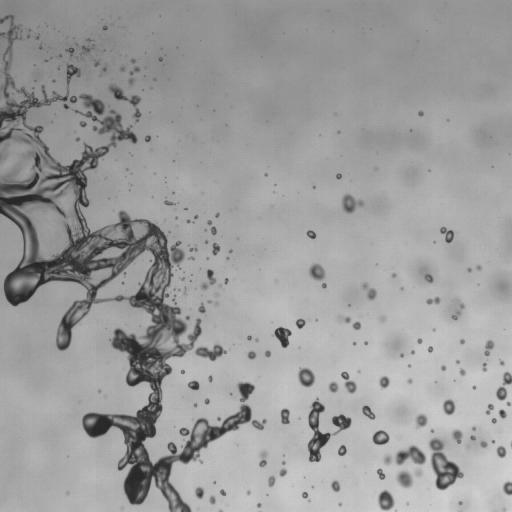droplet: (382, 444, 426, 489), (428, 437, 463, 490), (194, 341, 227, 361), (308, 262, 326, 289), (270, 326, 291, 348), (341, 193, 364, 213), (377, 489, 395, 511), (297, 366, 315, 387), (200, 269, 216, 290), (361, 282, 377, 301), (372, 430, 389, 445), (440, 226, 454, 243), (442, 398, 455, 415), (415, 413, 427, 429), (362, 405, 375, 419), (294, 318, 310, 329), (279, 408, 290, 424), (451, 429, 463, 443), (379, 376, 390, 389), (502, 480, 511, 495), (496, 445, 506, 458), (194, 486, 204, 499), (61, 53, 72, 64), (82, 53, 93, 64), (107, 64, 118, 75), (101, 74, 112, 85), (69, 85, 80, 96), (102, 92, 113, 103), (113, 99, 124, 110), (119, 118, 130, 129), (83, 185, 94, 196), (195, 217, 206, 228), (87, 220, 98, 231), (43, 280, 54, 291), (76, 288, 87, 299), (135, 306, 146, 317), (141, 313, 152, 324), (177, 332, 188, 343), (184, 349, 195, 360), (118, 350, 129, 361), (486, 354, 497, 365), (447, 364, 458, 375), (139, 380, 150, 391), (245, 395, 256, 406), (229, 402, 240, 413), (97, 404, 108, 415), (318, 411, 329, 422), (349, 411, 360, 422), (369, 420, 380, 431), (239, 421, 250, 432), (107, 425, 118, 436), (441, 434, 452, 445), (214, 435, 225, 446), (142, 436, 153, 447), (175, 437, 186, 448), (325, 438, 336, 449), (383, 442, 394, 453), (116, 443, 127, 454), (387, 444, 398, 455), (403, 457, 414, 468), (171, 459, 182, 470), (389, 462, 400, 473), (376, 480, 387, 491), (148, 484, 159, 495), (388, 485, 399, 496), (181, 492, 192, 503), (187, 380, 199, 390), (328, 381, 338, 393), (485, 403, 494, 415), (331, 480, 340, 492), (212, 242, 220, 255), (338, 444, 347, 455), (376, 468, 385, 479), (267, 475, 275, 487), (306, 230, 316, 239), (424, 273, 433, 283), (246, 350, 256, 359), (198, 302, 206, 313), (91, 58, 100, 67), (0, 22, 9, 31), (7, 67, 16, 76), (122, 88, 131, 97), (135, 131, 144, 140), (20, 142, 29, 151), (84, 168, 93, 177), (334, 199, 343, 208), (174, 206, 183, 215), (208, 234, 217, 243), (212, 234, 221, 243), (179, 258, 188, 267), (120, 299, 129, 308), (190, 309, 199, 318), (287, 322, 296, 331), (185, 324, 194, 333), (123, 327, 132, 336), (193, 338, 202, 347), (246, 341, 255, 350), (255, 350, 264, 359), (403, 353, 412, 362), (165, 356, 174, 365), (170, 367, 179, 376), (404, 368, 413, 377), (161, 375, 170, 384), (336, 377, 345, 386), (494, 377, 503, 386), (496, 399, 505, 408), (490, 408, 499, 417), (318, 424, 327, 433), (305, 429, 314, 438), (460, 433, 469, 442), (400, 442, 409, 451), (487, 444, 496, 453), (423, 448, 432, 457), (149, 454, 158, 463), (410, 475, 419, 484), (115, 481, 124, 490), (119, 493, 128, 502), (498, 409, 506, 418), (279, 468, 287, 477), (0, 37, 6, 48), (505, 383, 511, 394), (505, 405, 511, 416), (505, 447, 511, 458), (129, 505, 140, 511), (206, 505, 217, 511), (378, 315, 386, 323), (210, 226, 217, 235), (498, 358, 505, 367), (481, 361, 487, 371), (144, 134, 151, 142), (459, 368, 466, 376), (480, 440, 487, 448), (0, 97, 5, 108), (0, 165, 5, 176), (0, 288, 5, 299), (209, 495, 215, 504), (264, 350, 271, 357), (103, 17, 110, 24), (73, 47, 80, 54), (126, 63, 133, 70), (60, 65, 67, 72), (122, 71, 129, 78), (14, 81, 21, 88), (91, 92, 98, 99), (36, 93, 43, 100), (102, 109, 109, 116), (96, 113, 103, 120), (123, 137, 130, 144), (85, 179, 92, 186), (352, 193, 359, 200), (176, 203, 183, 210), (353, 205, 360, 212), (341, 210, 348, 217), (113, 215, 120, 222), (158, 224, 165, 231), (165, 241, 172, 248), (183, 250, 190, 257), (313, 257, 320, 264), (320, 261, 327, 268), (170, 262, 177, 269), (8, 264, 15, 271), (303, 269, 310, 276), (201, 275, 208, 282), (314, 279, 321, 286), (37, 284, 44, 291), (207, 284, 214, 291), (360, 289, 367, 296), (374, 293, 381, 300), (29, 294, 36, 301), (162, 297, 169, 304), (3, 300, 10, 307), (17, 301, 24, 308), (195, 311, 202, 318), (70, 326, 77, 333), (107, 331, 114, 338), (69, 337, 76, 344), (273, 338, 280, 345), (356, 339, 363, 346), (105, 341, 112, 348), (413, 343, 420, 350), (206, 344, 213, 351), (479, 354, 486, 361), (215, 355, 222, 362), (301, 361, 308, 368), (458, 361, 465, 368), (123, 362, 130, 369), (304, 362, 311, 369), (453, 364, 460, 371), (309, 365, 316, 372), (292, 375, 299, 382), (240, 376, 247, 383), (373, 376, 380, 383), (247, 377, 254, 384), (312, 378, 319, 385), (373, 381, 380, 388), (310, 382, 317, 389), (299, 384, 306, 391), (322, 384, 329, 391), (234, 391, 241, 398), (448, 393, 455, 400), (159, 398, 166, 405), (197, 399, 204, 406), (417, 407, 424, 414), (437, 407, 444, 414), (414, 408, 421, 415), (249, 412, 256, 419), (409, 417, 416, 424), (215, 420, 222, 427), (153, 421, 160, 428), (423, 423, 430, 430), (80, 430, 87, 437), (224, 430, 231, 437), (428, 432, 435, 439), (96, 434, 103, 441), (473, 438, 480, 445), (207, 440, 214, 447), (318, 446, 325, 453), (175, 447, 182, 454), (198, 447, 205, 454), (440, 447, 447, 454), (446, 454, 453, 461), (424, 455, 431, 462), (124, 463, 131, 470), (457, 464, 464, 471), (430, 472, 437, 479), (274, 474, 281, 481), (167, 475, 174, 482), (375, 487, 382, 494), (438, 488, 445, 495), (202, 492, 209, 499), (214, 492, 221, 499), (372, 493, 379, 500), (180, 494, 187, 501), (102, 23, 108, 30), (119, 64, 125, 71), (79, 121, 86, 127), (476, 264, 482, 271), (459, 338, 465, 345), (427, 346, 433, 353), (203, 398, 210, 404), (219, 489, 226, 495), (208, 374, 213, 382), (440, 365, 446, 371), (213, 292, 220, 297), (34, 33, 39, 39), (130, 58, 136, 63), (418, 110, 423, 116), (336, 173, 341, 179), (206, 220, 212, 225), (179, 276, 185, 281), (246, 335, 252, 340), (417, 338, 422, 344), (491, 418, 497, 423), (55, 53, 62, 57), (162, 507, 169, 511), (387, 507, 394, 511), (467, 267, 472, 272), (391, 273, 396, 278), (218, 283, 223, 288), (410, 349, 415, 354), (455, 359, 460, 364), (180, 369, 185, 374), (407, 378, 412, 383), (472, 384, 477, 389), (506, 401, 511, 406), (470, 435, 475, 440), (281, 460, 286, 465), (246, 490, 251, 495), (12, 19, 17, 24), (29, 31, 34, 36), (21, 32, 26, 37), (29, 35, 34, 40), (12, 39, 17, 44), (35, 39, 40, 44), (83, 41, 88, 46), (89, 49, 94, 54), (94, 55, 99, 60), (89, 60, 94, 65), (133, 61, 138, 66), (72, 62, 77, 67), (115, 63, 120, 68), (96, 64, 101, 69), (138, 64, 143, 69), (106, 66, 111, 71), (139, 67, 144, 72), (102, 71, 107, 76), (132, 71, 137, 76), (62, 72, 67, 77), (71, 73, 76, 78), (132, 80, 137, 85), (26, 88, 31, 93), (84, 89, 89, 94), (60, 91, 65, 96), (46, 93, 51, 98), (126, 94, 131, 99), (118, 98, 123, 103), (135, 103, 140, 108), (418, 115, 423, 120), (121, 125, 126, 130), (129, 127, 134, 132), (108, 145, 113, 150), (103, 153, 108, 158), (97, 156, 102, 161), (272, 185, 277, 190), (166, 196, 171, 201), (362, 198, 367, 203), (87, 203, 92, 208), (78, 204, 83, 209), (142, 214, 147, 219), (129, 215, 134, 220), (188, 215, 193, 220), (149, 218, 154, 223), (206, 224, 211, 229), (14, 225, 19, 230), (445, 225, 450, 230), (440, 233, 445, 238), (452, 234, 457, 239), (451, 237, 456, 242), (217, 241, 222, 246), (208, 245, 213, 250), (216, 250, 221, 255), (227, 252, 232, 257), (16, 255, 21, 260), (479, 261, 484, 266), (209, 265, 214, 270), (471, 266, 476, 271), (170, 267, 175, 272), (480, 267, 485, 272), (184, 271, 189, 276), (202, 271, 207, 276), (431, 273, 436, 278), (169, 276, 174, 281), (184, 276, 189, 281), (361, 277, 366, 282), (219, 278, 224, 283), (68, 280, 73, 285), (423, 280, 428, 285), (368, 283, 373, 288), (196, 286, 201, 291), (320, 287, 325, 292), (175, 290, 180, 295), (429, 294, 434, 299), (438, 294, 443, 299), (211, 296, 216, 301), (460, 298, 465, 303), (112, 299, 117, 304), (438, 300, 443, 305), (67, 301, 72, 306), (100, 301, 105, 306), (430, 301, 435, 306), (463, 301, 468, 306), (90, 302, 95, 307), (203, 303, 208, 308), (454, 304, 459, 309), (193, 305, 198, 310), (460, 308, 465, 313), (343, 312, 348, 317), (83, 314, 88, 319), (293, 315, 298, 320), (457, 315, 462, 320), (56, 317, 61, 322), (350, 318, 355, 323), (359, 320, 364, 325), (198, 322, 203, 327), (274, 323, 279, 328), (281, 323, 286, 328), (112, 324, 117, 329), (301, 325, 306, 330), (352, 328, 357, 333), (457, 334, 462, 339), (286, 335, 291, 340), (485, 335, 490, 340), (491, 337, 496, 342), (481, 340, 486, 345), (286, 343, 291, 348), (52, 344, 57, 349), (221, 344, 226, 349), (480, 346, 485, 351), (245, 347, 250, 352), (488, 348, 493, 353), (269, 352, 274, 357), (204, 356, 209, 361), (244, 356, 249, 361), (264, 356, 269, 361), (249, 358, 254, 363), (441, 360, 446, 365), (436, 363, 441, 368), (477, 363, 482, 368), (445, 365, 450, 370), (436, 367, 441, 372), (294, 368, 299, 373), (454, 368, 459, 373), (464, 368, 469, 373), (381, 371, 386, 376), (461, 374, 466, 379), (121, 375, 126, 380), (403, 375, 408, 380), (189, 376, 194, 381), (194, 376, 199, 381), (327, 378, 332, 383), (411, 378, 416, 383), (388, 379, 393, 384), (354, 380, 359, 385), (387, 382, 392, 387), (198, 383, 203, 388), (355, 384, 360, 389), (128, 385, 133, 390), (492, 386, 497, 391), (190, 388, 195, 393), (353, 389, 358, 394), (329, 391, 334, 396), (247, 393, 252, 398), (443, 395, 448, 400), (310, 397, 315, 402), (318, 398, 323, 403), (439, 399, 444, 404), (143, 400, 148, 405), (453, 401, 458, 406), (282, 403, 287, 408), (137, 404, 142, 409), (483, 405, 488, 410), (306, 406, 311, 411), (276, 407, 281, 412), (357, 407, 362, 412), (453, 407, 458, 412), (117, 409, 122, 414), (131, 411, 136, 416), (318, 411, 323, 416), (334, 411, 339, 416), (343, 412, 348, 417), (197, 413, 202, 418), (448, 413, 453, 418), (193, 415, 198, 420), (220, 415, 225, 420), (276, 415, 281, 420), (287, 415, 292, 420), (363, 415, 368, 420), (257, 417, 262, 422), (303, 418, 308, 423), (349, 421, 354, 426), (262, 422, 267, 427), (283, 423, 288, 428), (176, 424, 181, 429), (334, 425, 339, 430), (187, 426, 192, 431), (251, 426, 256, 431), (345, 426, 350, 431), (374, 426, 379, 431), (370, 429, 375, 434), (386, 430, 391, 435), (470, 430, 475, 435), (451, 438, 456, 443), (369, 440, 374, 445), (486, 440, 491, 445), (493, 442, 498, 447), (379, 443, 384, 448), (264, 446, 269, 451), (479, 446, 484, 451), (166, 450, 171, 455), (492, 450, 497, 455), (305, 451, 310, 456), (340, 454, 345, 459), (256, 456, 261, 461), (264, 456, 269, 461), (278, 456, 283, 461), (282, 456, 287, 461), (500, 456, 505, 461), (311, 460, 316, 465), (112, 463, 117, 468), (264, 463, 269, 468), (279, 464, 284, 469), (283, 473, 288, 478), (263, 479, 268, 484), (327, 479, 332, 484), (338, 482, 343, 487), (173, 484, 178, 489), (447, 484, 452, 489), (328, 487, 333, 492), (297, 490, 302, 495), (335, 490, 340, 495), (143, 497, 148, 502), (163, 500, 168, 505), (458, 504, 463, 509), (506, 506, 511, 511), (224, 278, 228, 284), (0, 141, 3, 148), (75, 137, 80, 141), (215, 212, 219, 217), (194, 214, 198, 219), (228, 249, 233, 253), (254, 337, 258, 342), (193, 402, 197, 407), (472, 426, 476, 431), (430, 428, 434, 433), (458, 501, 463, 505), (257, 502, 261, 507), (501, 507, 506, 511), (158, 57, 162, 61), (264, 172, 268, 176), (352, 341, 356, 345), (363, 341, 367, 345), (400, 353, 404, 357), (397, 435, 401, 439), (491, 440, 495, 444), (338, 502, 342, 506), (205, 239, 208, 244), (0, 13, 3, 18), (508, 369, 511, 374), (508, 493, 511, 498), (374, 167, 378, 170), (312, 185, 315, 189), (184, 207, 188, 210), (174, 216, 178, 219), (226, 256, 229, 260), (189, 273, 193, 276), (400, 286, 403, 290), (407, 364, 411, 367), (357, 369, 360, 373), (98, 389, 101, 393), (297, 416, 301, 419), (311, 485, 314, 489), (66, 491, 69, 495), (406, 501, 409, 505), (218, 509, 223, 511), (0, 55, 2, 60), (0, 212, 2, 217), (52, 79, 55, 82), (153, 78, 156, 81), (446, 118, 449, 121), (409, 129, 412, 132), (337, 130, 340, 133), (153, 172, 156, 175), (129, 183, 132, 186), (206, 257, 209, 260), (121, 281, 124, 284), (315, 318, 318, 321), (432, 328, 435, 331), (229, 392, 232, 395), (282, 454, 285, 457), (5, 12, 8, 15), (19, 25, 22, 28), (107, 25, 110, 28), (99, 26, 102, 29), (103, 29, 106, 32), (84, 35, 87, 38), (38, 36, 41, 39), (89, 36, 92, 39), (90, 40, 93, 43), (41, 44, 44, 47), (71, 44, 74, 47), (65, 45, 68, 48), (2, 48, 5, 51), (37, 48, 40, 51), (66, 51, 69, 54), (55, 52, 58, 55), (160, 54, 163, 57), (132, 55, 135, 58), (45, 56, 48, 59), (52, 56, 55, 59), (155, 58, 158, 61), (48, 59, 51, 62), (161, 59, 164, 62), (32, 60, 35, 63), (44, 61, 47, 64), (68, 61, 71, 64), (33, 76, 36, 79), (51, 76, 54, 79), (63, 79, 66, 82), (75, 94, 78, 97), (138, 109, 141, 112), (415, 111, 418, 114), (422, 111, 425, 114), (138, 116, 141, 119), (411, 127, 414, 130), (334, 128, 337, 131), (406, 129, 409, 132), (147, 140, 150, 143), (127, 153, 130, 156), (171, 156, 174, 159), (124, 164, 127, 167), (127, 165, 130, 168), (490, 167, 493, 170), (122, 168, 125, 171), (127, 169, 130, 172), (338, 170, 341, 173), (261, 171, 264, 174), (266, 171, 269, 174), (426, 171, 429, 174), (333, 172, 336, 175), (341, 173, 344, 176), (262, 175, 265, 178), (333, 176, 336, 179), (164, 177, 167, 180), (339, 177, 342, 180), (161, 180, 164, 183), (273, 180, 276, 183), (312, 182, 315, 185), (315, 185, 318, 188), (129, 186, 132, 189), (309, 186, 312, 189), (172, 188, 175, 191), (168, 190, 171, 193), (174, 191, 177, 194), (162, 197, 165, 200), (175, 203, 178, 206), (167, 204, 170, 207), (171, 204, 174, 207), (183, 204, 186, 207), (183, 209, 186, 212), (213, 210, 216, 213), (171, 215, 174, 218), (217, 215, 220, 218), (136, 216, 139, 219), (177, 216, 180, 219), (193, 218, 196, 221), (85, 219, 88, 222), (183, 219, 186, 222), (204, 219, 207, 222), (189, 221, 192, 224), (103, 223, 106, 226), (210, 223, 213, 226), (439, 224, 442, 227), (215, 227, 218, 230), (309, 227, 312, 230), (452, 229, 455, 232), (437, 230, 440, 233), (314, 231, 317, 234), (315, 234, 318, 237), (308, 237, 311, 240), (179, 238, 182, 241), (201, 239, 204, 242), (429, 240, 432, 243), (20, 241, 23, 244), (444, 241, 447, 244), (189, 244, 192, 247), (20, 246, 23, 249), (196, 246, 199, 249), (227, 246, 230, 249), (191, 249, 194, 252), (189, 258, 192, 261), (464, 269, 467, 272), (190, 270, 193, 273), (394, 270, 397, 273), (468, 271, 471, 274), (388, 272, 391, 275), (189, 275, 192, 278), (227, 276, 230, 279), (394, 276, 397, 279), (226, 281, 229, 284), (325, 283, 328, 286), (399, 283, 402, 286), (180, 287, 183, 290), (402, 288, 405, 291), (398, 289, 401, 292), (185, 290, 188, 293), (347, 300, 350, 303), (424, 302, 427, 305), (197, 303, 200, 306), (344, 303, 347, 306), (452, 311, 455, 314), (448, 314, 451, 317), (301, 316, 304, 319), (317, 317, 320, 320), (454, 319, 457, 322), (316, 320, 319, 323), (429, 326, 432, 329), (435, 328, 438, 331), (430, 330, 433, 333), (248, 332, 251, 335), (418, 335, 421, 338), (250, 337, 253, 340), (463, 337, 466, 340), (258, 338, 261, 341), (352, 338, 355, 341), (414, 338, 417, 341), (246, 339, 249, 342), (456, 339, 459, 342), (349, 341, 352, 344), (367, 341, 370, 344), (355, 342, 358, 345), (463, 342, 466, 345), (363, 344, 366, 347), (425, 345, 428, 348), (432, 346, 435, 349), (408, 348, 411, 351), (226, 350, 229, 353), (425, 350, 428, 353), (431, 350, 434, 353), (481, 352, 484, 355), (396, 353, 399, 356), (409, 353, 412, 356), (412, 353, 415, 356), (484, 355, 487, 358), (399, 356, 402, 359), (456, 356, 459, 359), (500, 357, 503, 360), (452, 360, 455, 363), (496, 360, 499, 363), (405, 361, 408, 364), (410, 363, 413, 366), (485, 364, 488, 367), (180, 366, 183, 369), (407, 367, 410, 370), (341, 368, 344, 371), (184, 369, 187, 372), (443, 369, 446, 372), (177, 370, 180, 373), (346, 370, 349, 373), (338, 371, 341, 374), (483, 371, 486, 374), (180, 373, 183, 376), (205, 374, 208, 377), (211, 375, 214, 378), (450, 377, 453, 380), (211, 379, 214, 382), (451, 381, 454, 384), (475, 384, 478, 387), (469, 386, 472, 389), (94, 388, 97, 391), (100, 390, 103, 393), (227, 394, 230, 397), (208, 401, 211, 404), (190, 403, 193, 406), (370, 408, 373, 411), (370, 418, 373, 421), (489, 421, 492, 424), (493, 422, 496, 425), (475, 427, 478, 430), (433, 428, 436, 431), (176, 430, 179, 433), (491, 436, 494, 439), (167, 439, 170, 442), (470, 439, 473, 442), (457, 443, 460, 446), (336, 445, 339, 448), (334, 450, 337, 453), (279, 452, 282, 455), (284, 452, 287, 455), (202, 460, 205, 463), (199, 463, 202, 466), (260, 466, 263, 469), (375, 466, 378, 469), (375, 473, 378, 476), (300, 475, 303, 478), (383, 477, 386, 480), (211, 478, 214, 481), (215, 480, 218, 483), (313, 484, 316, 487), (217, 487, 220, 490), (223, 488, 226, 491), (249, 488, 252, 491), (243, 489, 246, 492), (306, 490, 309, 493), (249, 492, 252, 495), (307, 494, 310, 497), (222, 495, 225, 498), (265, 495, 268, 498), (299, 495, 302, 498), (304, 497, 307, 500), (459, 498, 462, 501), (337, 499, 340, 502), (259, 500, 262, 503), (455, 500, 458, 503), (254, 501, 257, 504), (308, 501, 311, 504), (408, 501, 411, 504), (341, 502, 344, 505), (335, 503, 338, 506), (221, 507, 224, 510), (257, 507, 260, 510), (272, 191, 276, 193), (149, 87, 152, 89), (108, 104, 110, 107), (50, 121, 53, 123), (172, 160, 175, 162), (125, 168, 128, 170), (172, 191, 174, 194), (236, 237, 239, 239), (433, 240, 435, 243), (182, 271, 185, 273), (453, 378, 455, 381), (434, 381, 437, 383), (213, 481, 215, 484), (394, 509, 397, 511), (505, 509, 508, 511), (33, 64, 35, 66), (213, 109, 215, 111), (428, 169, 430, 171), (274, 184, 276, 186), (128, 189, 130, 191), (108, 197, 110, 199), (204, 229, 206, 231), (168, 231, 170, 233), (375, 263, 377, 265), (189, 280, 191, 282), (477, 283, 479, 285), (348, 304, 350, 306), (298, 346, 300, 348), (266, 493, 268, 495), (491, 166, 493, 167), (34, 80, 35, 81), (165, 177, 166, 178), (152, 196, 153, 197)
ligament: (108, 83, 141, 123), (65, 37, 105, 61), (495, 371, 511, 401), (335, 314, 361, 330), (341, 370, 356, 393), (128, 66, 140, 87), (484, 340, 494, 359), (259, 449, 268, 468), (425, 296, 441, 305), (163, 196, 178, 205), (98, 63, 107, 77), (301, 491, 310, 502), (207, 299, 219, 306), (26, 28, 31, 38), (182, 285, 187, 295), (44, 57, 52, 62), (186, 219, 194, 223), (38, 42, 42, 49), (173, 287, 180, 291), (57, 64, 60, 70), (510, 441, 511, 448), (164, 180, 166, 183), (492, 510, 498, 511), (457, 510, 462, 511)
